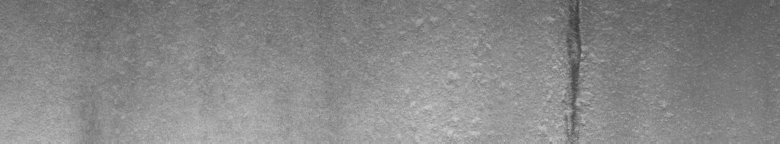hd: (544, 4, 604, 136)
